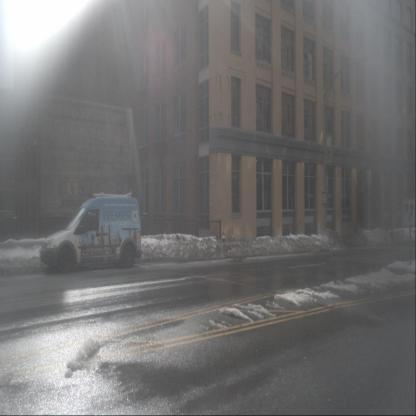movable_object-trafficcone: (230, 225, 235, 244), (288, 224, 292, 240)
vehicle-car: (40, 196, 142, 273)
